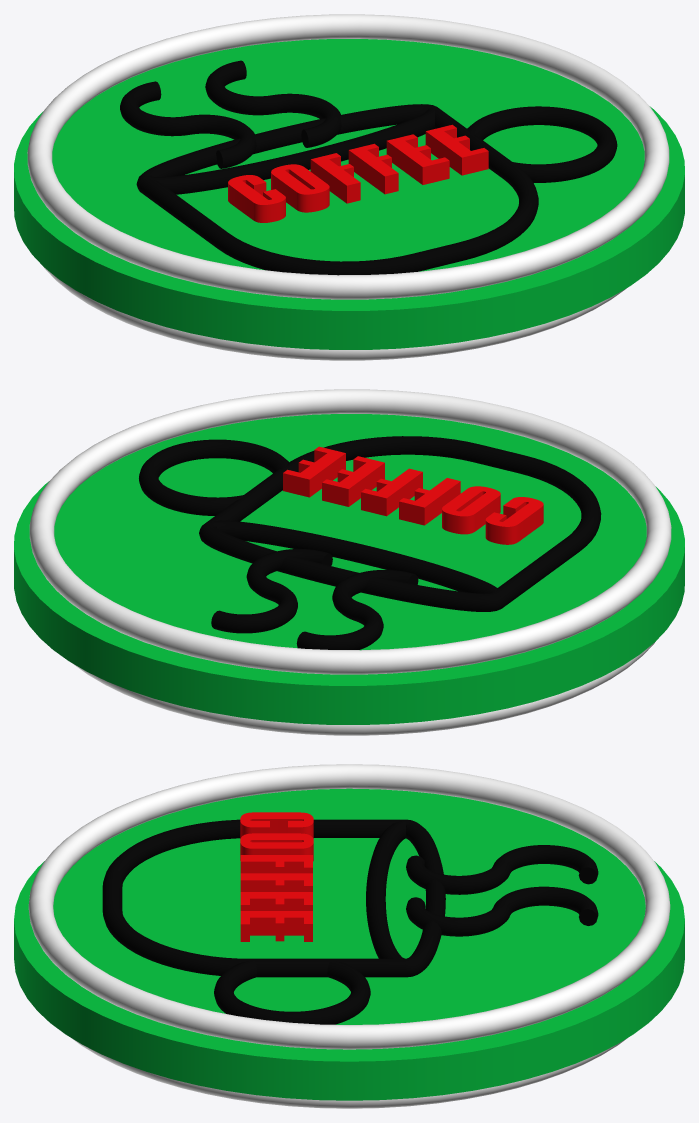
The picture shows the model from 3 angles, top to bottom: view 1: azimuth 30°, elevation 25°; view 2: azimuth 150°, elevation 25°; view 3: azimuth 270°, elevation 25°; orthographic projection.
Visible parts, largest first — view 1: Circle053, Shape014, Text002, Line003, Ellipse001, Shape016, Arc001, Line005, Line004; view 2: Circle053, Shape014, Text002, Ellipse001, Line003, Shape016, Arc001, Line005, Line004; view 3: Circle053, Shape014, Line003, Text002, Ellipse001, Arc001, Line005, Line004, Shape016.
Part boxes in pixels (box(x1,y1,x2,y2)): Circle053: box(14, 39, 684, 349); Shape014: box(27, 14, 669, 299); Text002: box(228, 124, 488, 222); Line003: box(139, 106, 538, 275); Ellipse001: box(136, 104, 436, 194); Shape016: box(43, 266, 626, 360); Arc001: box(467, 106, 617, 182); Line005: box(205, 60, 341, 147); Line004: box(120, 81, 256, 168); Circle053: box(14, 414, 684, 724); Shape014: box(29, 389, 671, 674); Text002: box(283, 446, 543, 544); Ellipse001: box(199, 520, 503, 611); Line003: box(205, 436, 601, 607); Shape016: box(72, 641, 655, 735); Arc001: box(139, 439, 288, 515); Line005: box(211, 549, 332, 633); Line004: box(296, 570, 418, 649); Circle053: box(14, 788, 684, 1100); Shape014: box(28, 764, 670, 1049); Line003: box(102, 819, 405, 977); Text002: box(240, 812, 313, 941); Ellipse001: box(366, 819, 445, 977); Arc001: box(214, 960, 370, 1024); Line005: box(406, 886, 598, 936); Line004: box(406, 845, 598, 894); Shape016: box(71, 1038, 627, 1108).
Size of the model in its own units: 33.89 by 6.11 by 33.89.
